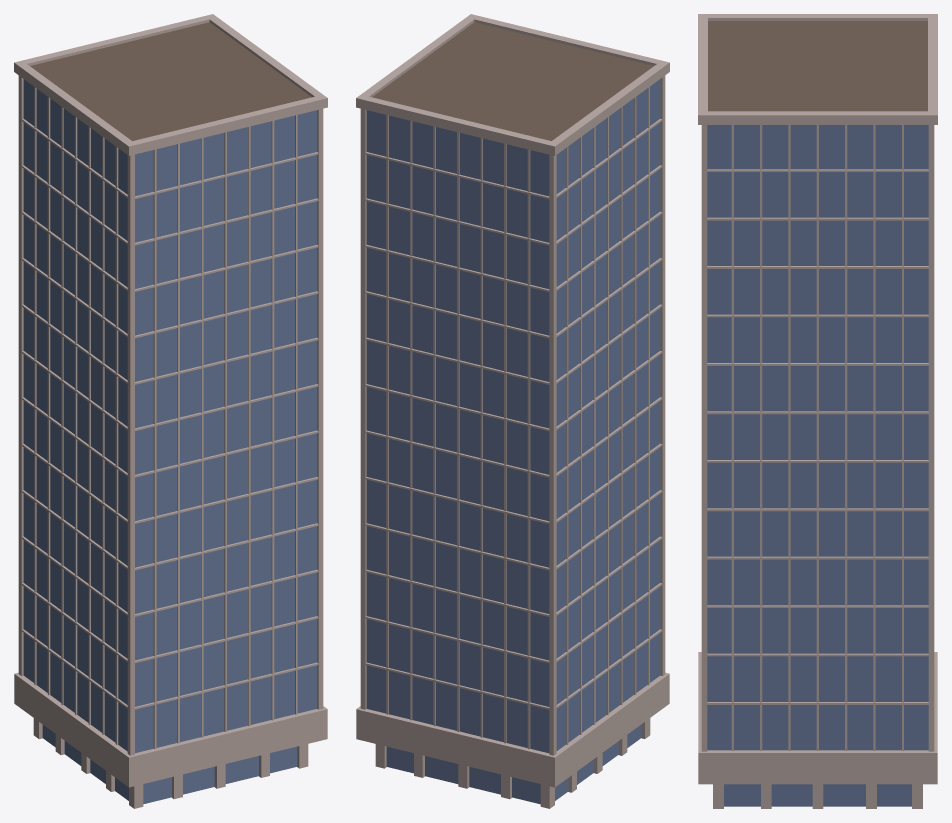
File: LargeBuilding_09.fbx
3 renders of one model, left to right at view 1: azimuth 30°, elevation 25°; view 2: azimuth 150°, elevation 25°; view 3: azimuth 270°, elevation 25°, orthographic. The views are drawn at different scales.
Visible parts, largest first — view 1: LargeBuilding_09; view 2: LargeBuilding_09; view 3: LargeBuilding_09.
Boxes of the visible parts, bbox=[...] form: LargeBuilding_09: bbox=[14, 14, 327, 808]; LargeBuilding_09: bbox=[356, 14, 669, 808]; LargeBuilding_09: bbox=[698, 14, 937, 808].
Bounding box in the file's own units: 14.67 × 47.26 × 14.67.
